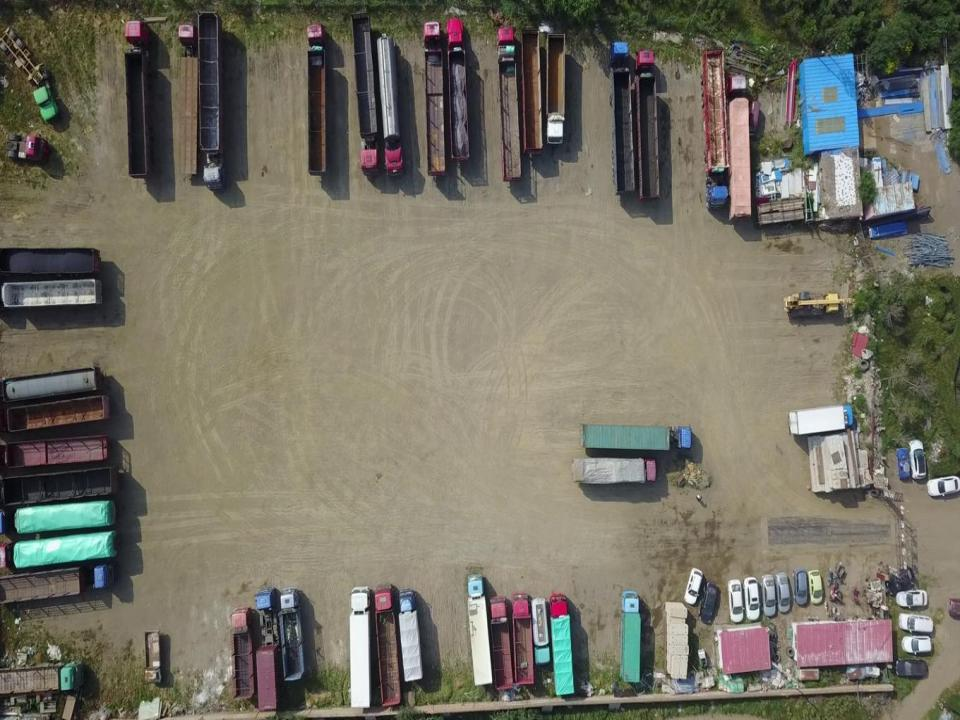car: (0, 565, 112, 604), (886, 566, 914, 596), (699, 582, 718, 624), (727, 579, 745, 623), (743, 576, 760, 621), (760, 574, 777, 618), (927, 475, 960, 497), (899, 612, 933, 633), (909, 439, 926, 480), (901, 634, 934, 655), (684, 566, 702, 604), (894, 658, 928, 678), (792, 567, 809, 606), (895, 589, 928, 609), (775, 572, 791, 613), (808, 570, 823, 604), (896, 447, 910, 480), (947, 598, 960, 618)
truck: (0, 24, 58, 124), (701, 48, 731, 211), (198, 11, 225, 192), (1, 469, 118, 509), (351, 11, 379, 175), (123, 21, 152, 179), (0, 366, 106, 408), (0, 532, 116, 569), (608, 42, 634, 197), (252, 586, 283, 716), (0, 395, 111, 431), (1, 436, 109, 472), (0, 500, 114, 534), (635, 49, 660, 202), (377, 32, 403, 177), (423, 20, 447, 177), (497, 25, 521, 182), (578, 422, 692, 452), (728, 76, 752, 218), (1, 246, 100, 280), (307, 22, 328, 177), (375, 583, 401, 707), (447, 17, 469, 162), (177, 23, 197, 176), (466, 573, 493, 686), (0, 282, 101, 312), (521, 26, 543, 156), (1, 662, 84, 694), (545, 32, 566, 149), (550, 593, 574, 695), (278, 586, 304, 680), (397, 588, 423, 682), (350, 586, 370, 707), (571, 457, 656, 485), (230, 606, 254, 701), (490, 595, 514, 690), (512, 591, 534, 686), (787, 405, 853, 434), (620, 590, 640, 684), (6, 130, 48, 166), (530, 597, 550, 666), (143, 631, 161, 685)
